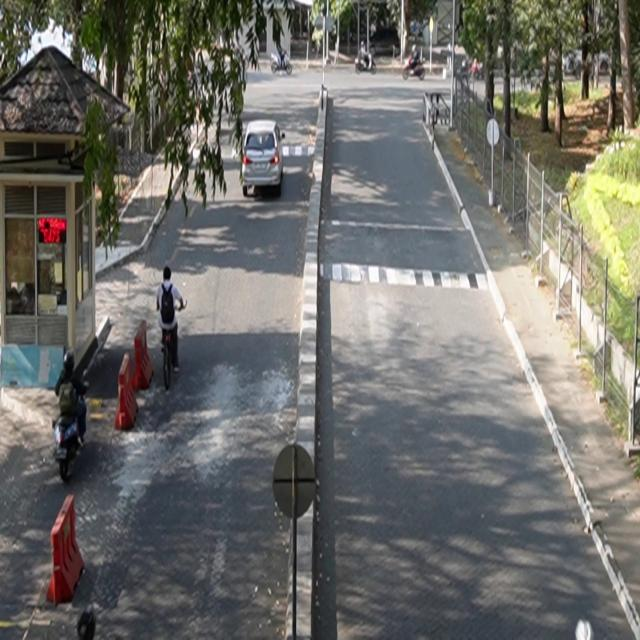car: (242, 120, 286, 198)
